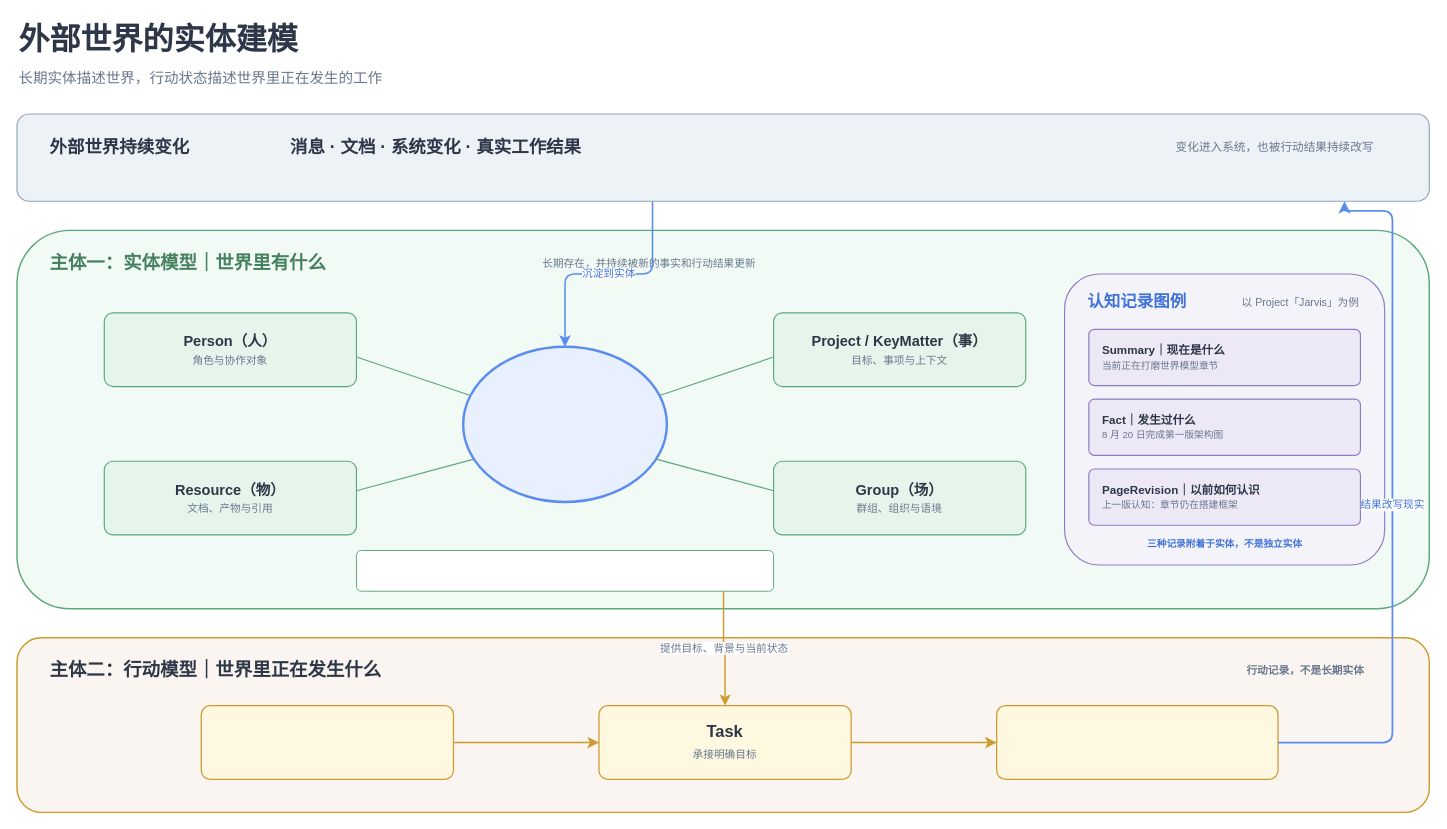
Some shapes in this 1447 by 829 pixel diagram are drawn without their labels. The shapes that lost their labels are listed below. From the top down, each one's box as (x1, y1, x2, y2) in pixels, then its label:
(462, 345, 668, 503): 认知坐标 Principal（我） Jarvis
(356, 550, 774, 591): 关系：角色 · 归属 · 协作 · 引用 · 语境
(200, 705, 454, 780): Todo 发现新变化
(996, 705, 1278, 780): ExecutionRun 一次执行及其结果
